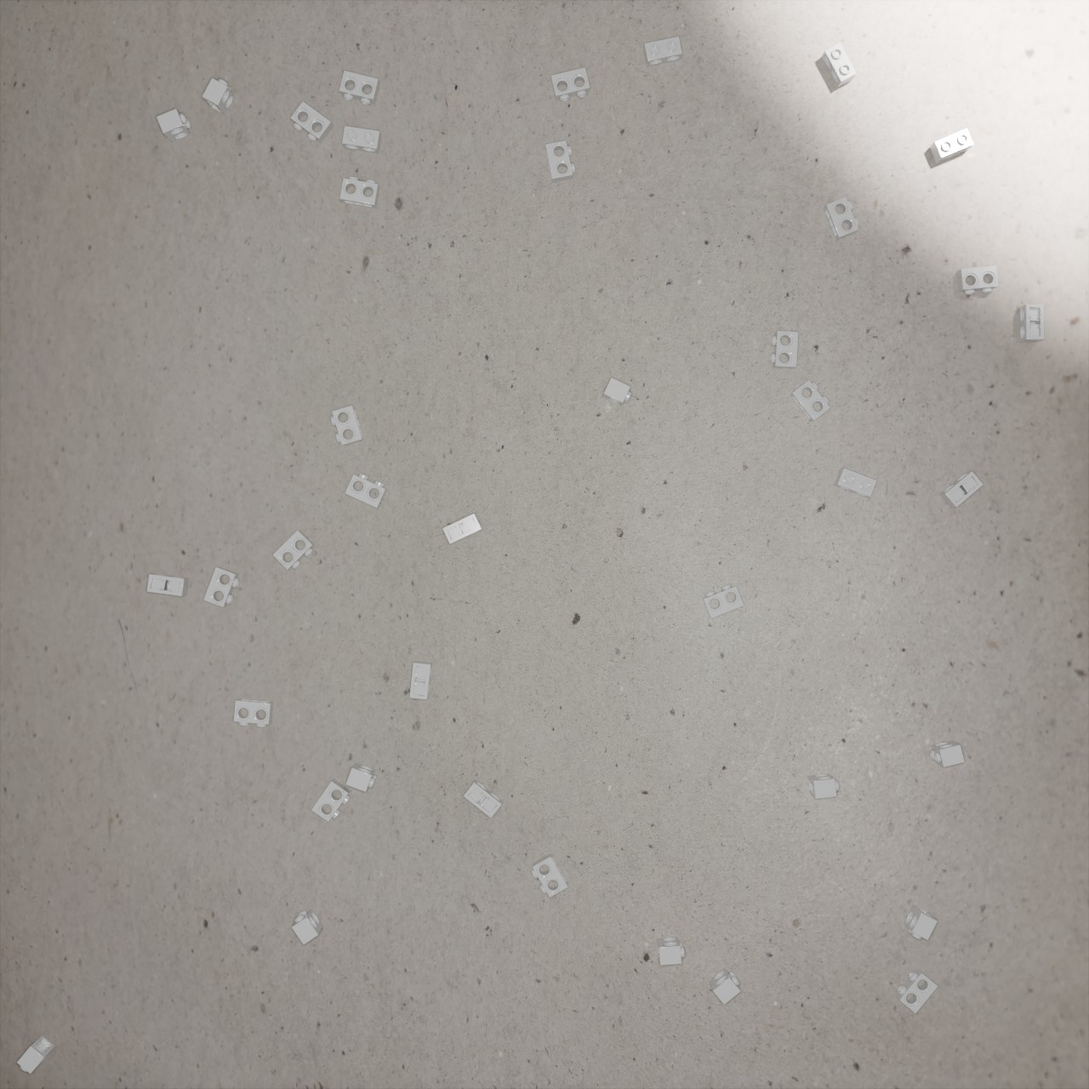lego: (895, 968, 938, 1014), (290, 101, 334, 143), (789, 380, 831, 422), (311, 778, 351, 822), (272, 530, 315, 570), (531, 853, 568, 898), (821, 42, 857, 88), (823, 197, 860, 241), (940, 471, 984, 508), (929, 128, 974, 163), (463, 779, 503, 818), (345, 473, 387, 509), (17, 1035, 55, 1074), (203, 567, 240, 607), (702, 584, 744, 619), (339, 70, 380, 105), (330, 405, 364, 446), (551, 67, 590, 102), (545, 140, 576, 183), (340, 176, 380, 209), (834, 468, 877, 498), (442, 513, 483, 544), (956, 265, 998, 295), (202, 78, 235, 115), (643, 36, 682, 67), (156, 109, 191, 143), (904, 905, 938, 940), (709, 968, 741, 1005), (292, 909, 324, 945), (233, 699, 274, 727), (342, 126, 382, 154), (770, 331, 799, 369), (930, 740, 965, 767), (147, 574, 189, 596), (1020, 304, 1044, 342), (346, 763, 377, 792), (409, 661, 432, 700), (602, 377, 632, 406), (807, 773, 839, 799), (656, 937, 685, 965)
